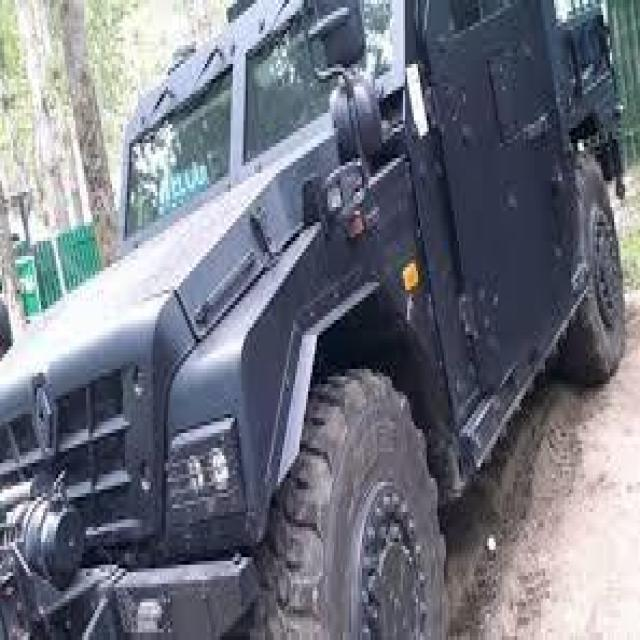Tanks: (5, 30, 566, 621)
